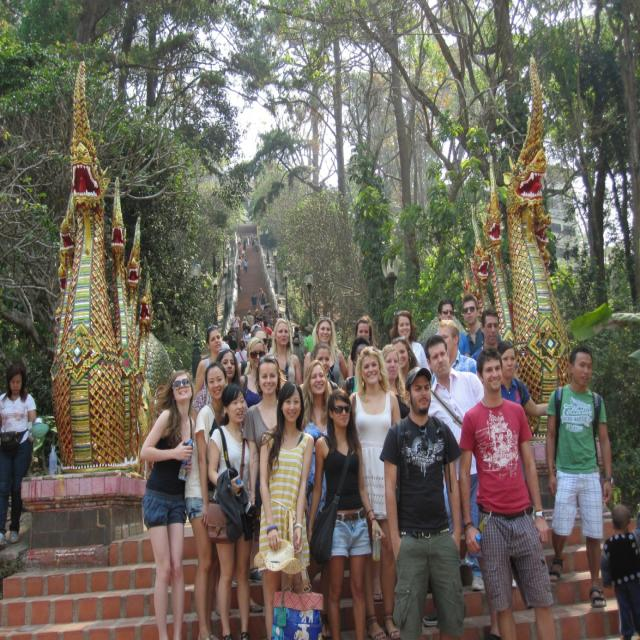body: (456, 344, 561, 639), (378, 364, 466, 640), (306, 386, 384, 639), (543, 344, 616, 609), (136, 366, 198, 640), (423, 334, 486, 593), (350, 344, 402, 639), (258, 380, 316, 638), (183, 360, 230, 640), (207, 382, 255, 640), (0, 359, 50, 554), (300, 359, 334, 640), (243, 354, 288, 519), (599, 502, 640, 640), (191, 347, 249, 430), (496, 339, 549, 417), (301, 316, 349, 388), (430, 319, 477, 390), (390, 311, 432, 374), (379, 344, 413, 421), (432, 296, 473, 359), (266, 318, 302, 385), (298, 342, 341, 395), (194, 325, 222, 401), (339, 335, 371, 397), (239, 336, 266, 409), (236, 326, 271, 382), (347, 315, 376, 380), (461, 294, 486, 358), (470, 308, 500, 361), (391, 336, 418, 386), (256, 286, 277, 321), (234, 338, 249, 366), (251, 320, 278, 334), (230, 310, 240, 347), (630, 503, 640, 540), (304, 324, 314, 356), (243, 232, 259, 252), (227, 326, 238, 355), (292, 324, 302, 353), (250, 315, 264, 334), (249, 290, 258, 314), (242, 326, 252, 346), (241, 315, 250, 337), (246, 309, 255, 329), (234, 254, 243, 273), (235, 272, 242, 295), (220, 335, 230, 348), (254, 308, 259, 325), (236, 234, 241, 248), (244, 258, 248, 274), (276, 308, 282, 318)
